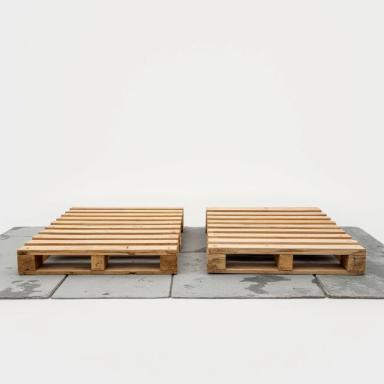pallet: (17, 206, 184, 275), (205, 206, 366, 275), (39, 255, 91, 267), (293, 255, 341, 264)
